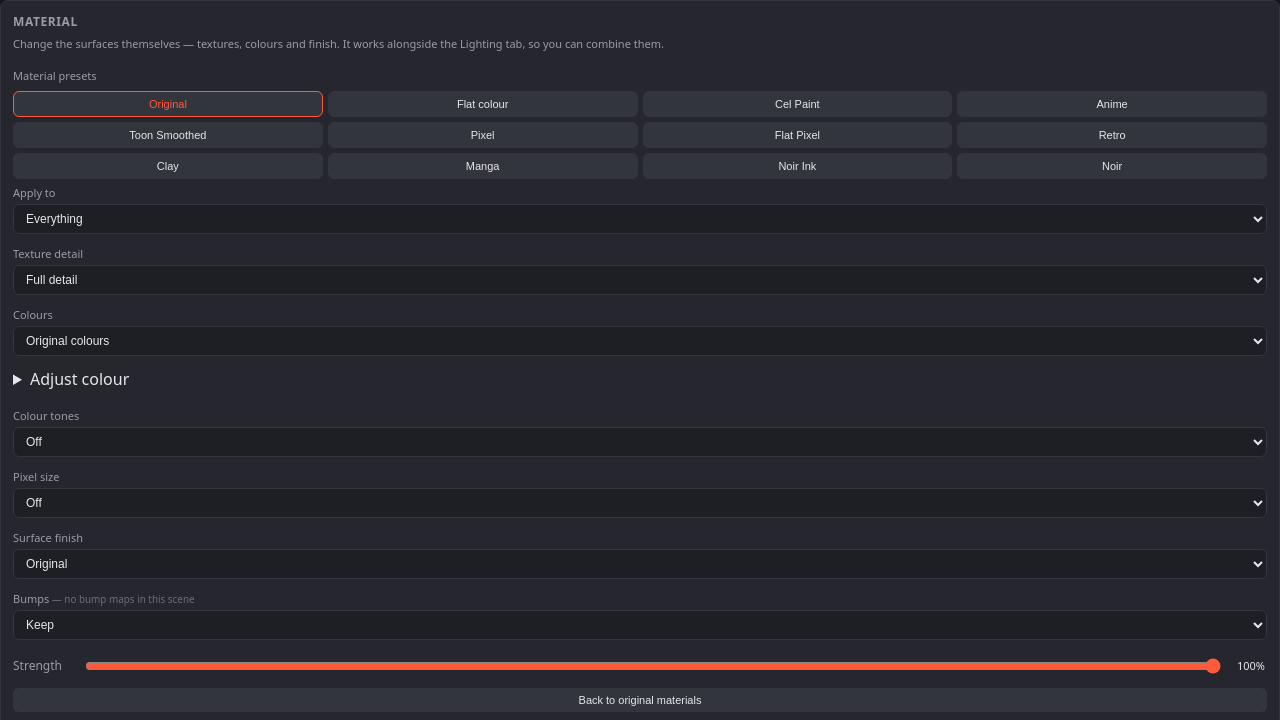
Test: Flat — keep shapes: the sensitivity slider › only appears with that texture detail, and sets the sensitivity
Expected: the text "Shape sensitivity" is not shown
Step 1. Select "Flat — keep shapes" in the dropdown labelled "Texture detail" → (640, 280), box [13,264,1267,294]
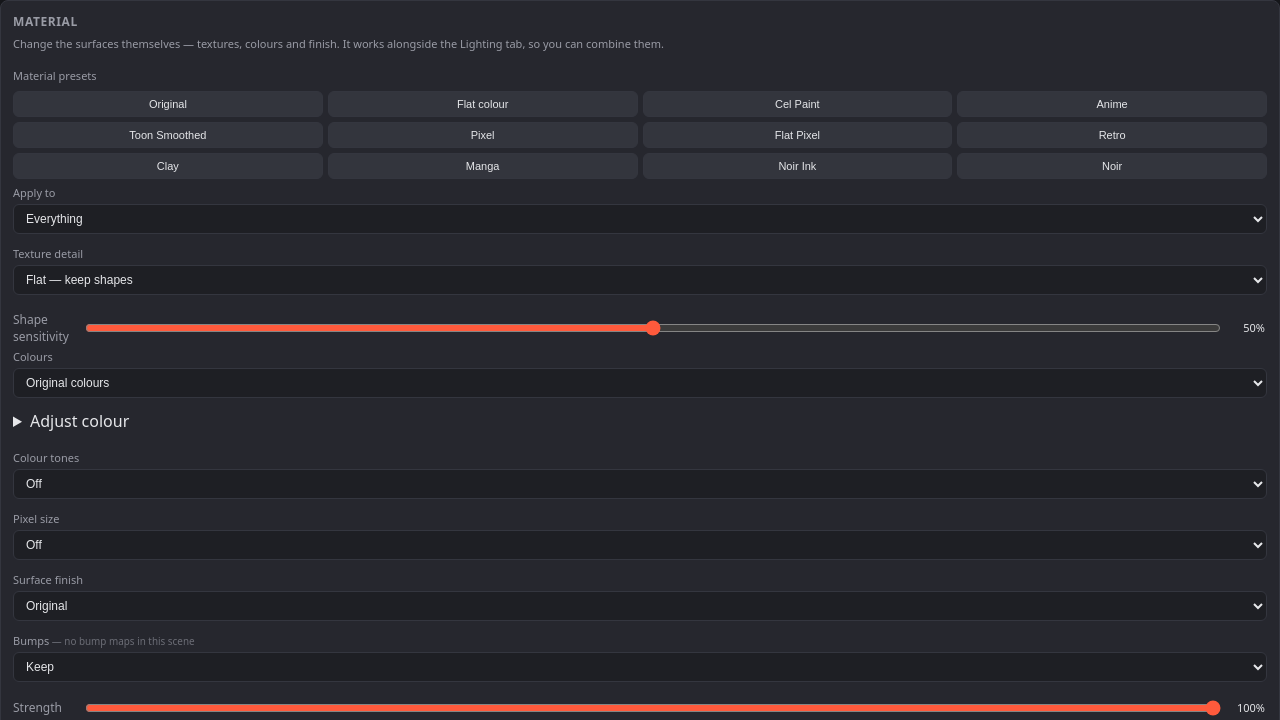
Expected: the text "Shape sensitivity" is shown, [13,310,75,344]
Step 2. Set the slider labelled "Shape sensitivity 50%" to "0.8" → (989, 328), box [85,320,1221,336]
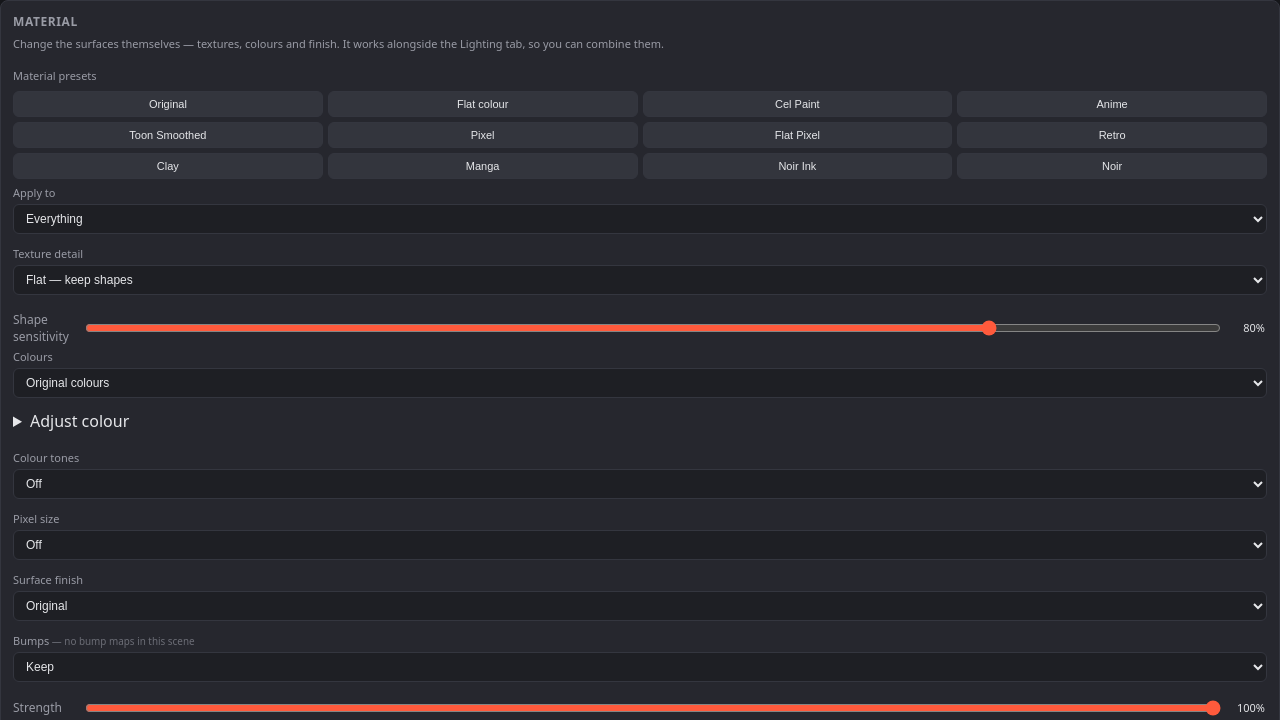
Step 3. Select "Flat colour" in the dropdown labelled "Texture detail" → (640, 280), box [13,264,1267,294]
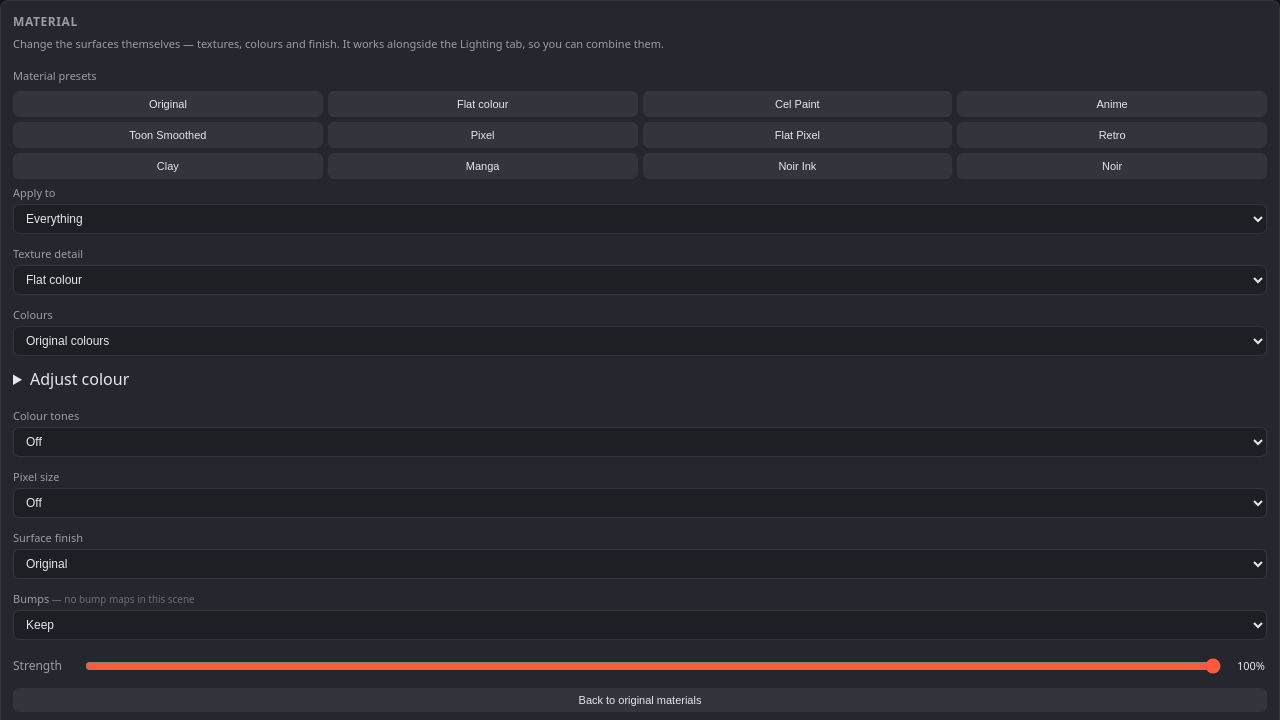
Expected: the text "Shape sensitivity" is gone
